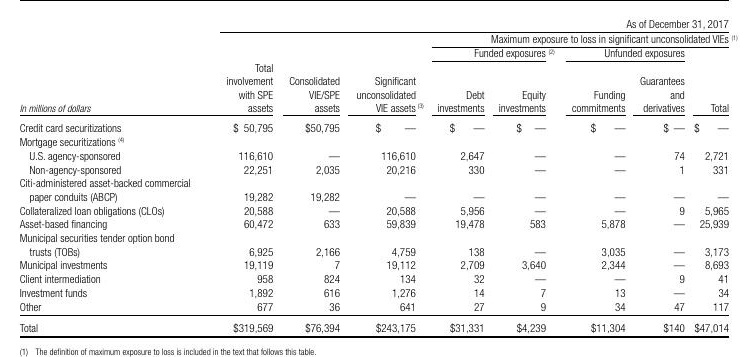table: (0, 0, 751, 357)
